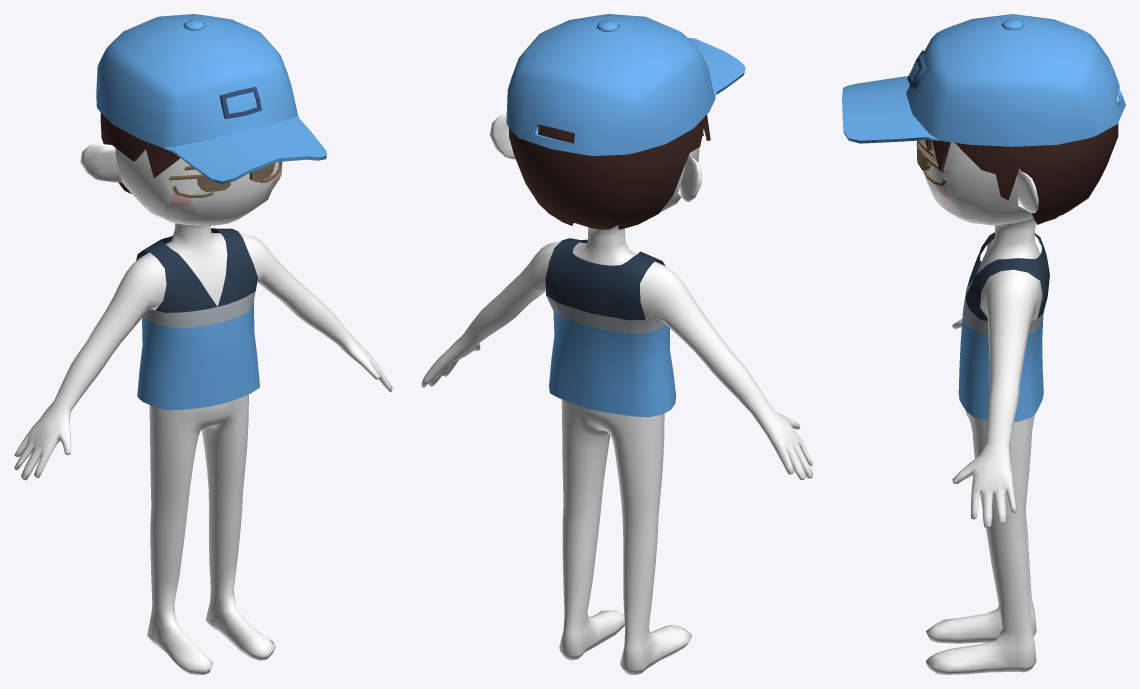
Rendered from Sunny.fbx.
3 renders of one model, left to right at view 1: azimuth 30°, elevation 25°; view 2: azimuth 150°, elevation 25°; view 3: azimuth 270°, elevation 25°, orthographic. The views are drawn at different scales.
Parts seen in each view (by area): view 1: Sunny; view 2: Sunny; view 3: Sunny.
Boxes of the visible parts, x1,y1,x2,y2 form: Sunny: (14, 14, 392, 674); Sunny: (421, 14, 813, 674); Sunny: (842, 14, 1125, 674).
Size of the model in its own units: 110 by 175 by 71.01.
